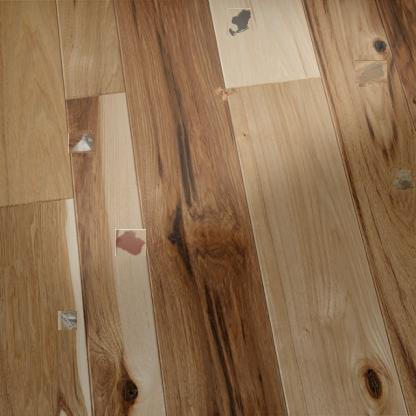dirty: (358, 57, 386, 85), (389, 167, 415, 191), (70, 132, 94, 155), (213, 85, 239, 103), (58, 310, 78, 330)
liquid: (115, 229, 146, 256), (227, 8, 251, 36)
